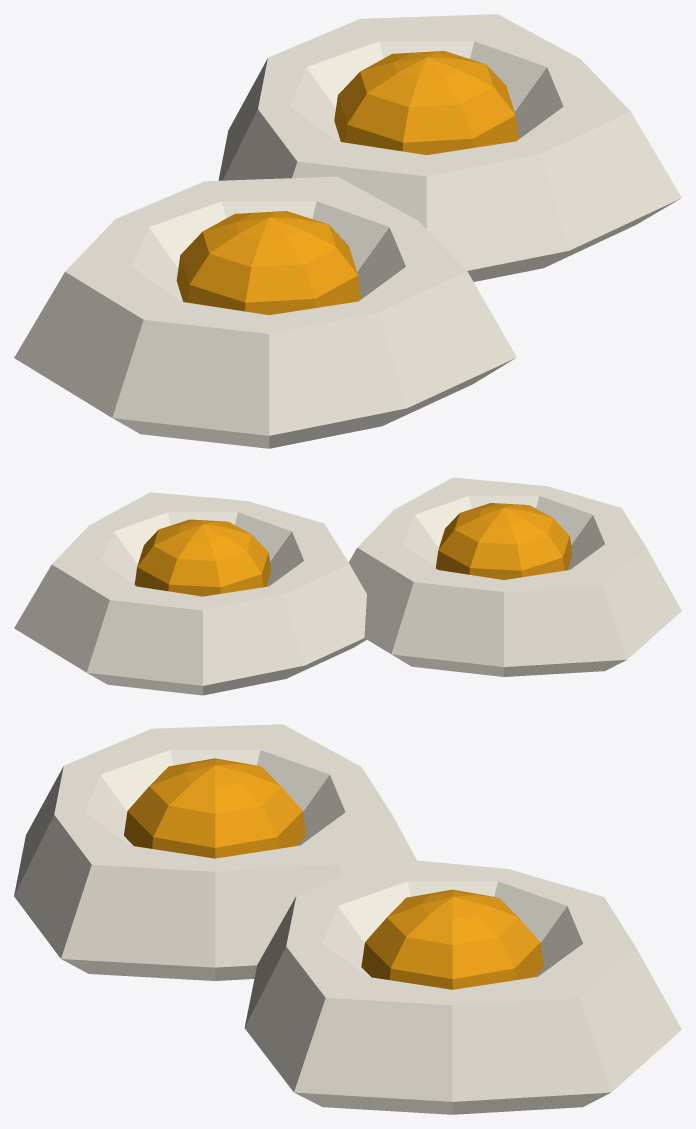
Rendered from SM_Cook_Topping_Egg_01.fbx.
3 renders of one model, top to bottom at view 1: azimuth 30°, elevation 25°; view 2: azimuth 150°, elevation 25°; view 3: azimuth 270°, elevation 25°, orthographic. The views are drawn at different scales.
Parts seen in each view (by area): view 1: SM_Cook_Topping_Egg_01; view 2: SM_Cook_Topping_Egg_01; view 3: SM_Cook_Topping_Egg_01.
Boxes of the visible parts, box(x1,y1,x2,y2) form: SM_Cook_Topping_Egg_01: box(14, 14, 681, 448); SM_Cook_Topping_Egg_01: box(14, 477, 681, 695); SM_Cook_Topping_Egg_01: box(14, 724, 681, 1114).
Size of the model in its own units: 0.1651 by 0.035 by 0.1462.
Materials: 1 (1 with a texture image).
